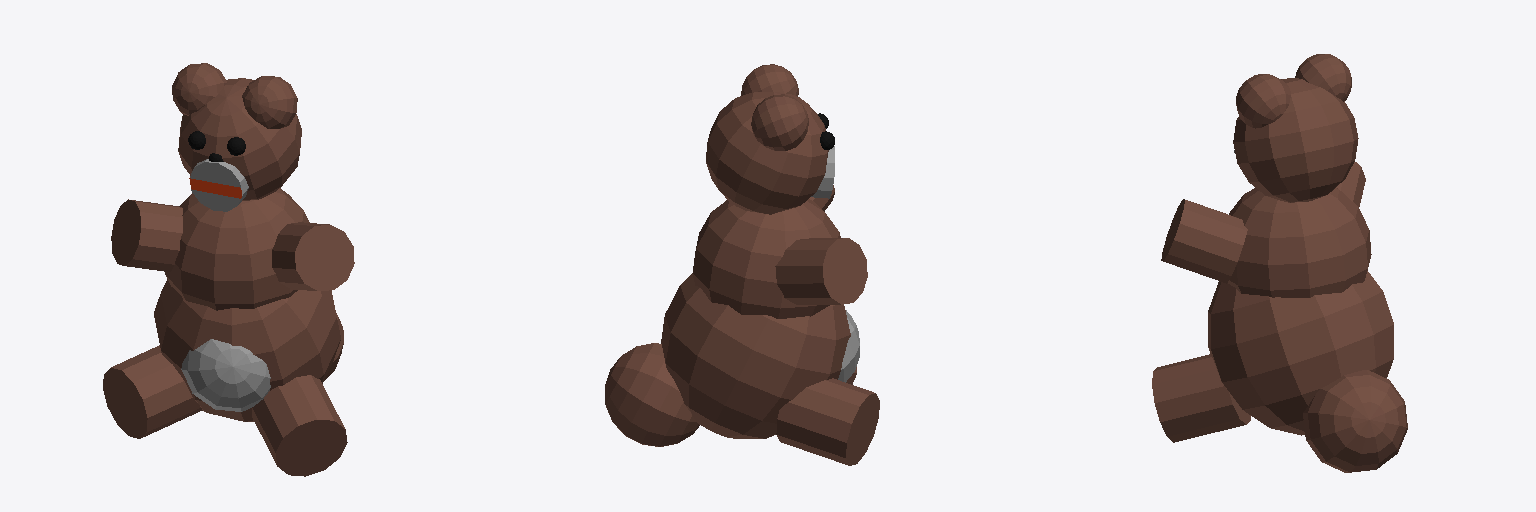
The model's file is model-triangulated.obj.
3 renders of one model, left to right at view 1: azimuth 30°, elevation 25°; view 2: azimuth 150°, elevation 25°; view 3: azimuth 270°, elevation 25°, orthographic.
Parts seen in each view (by area): view 1: group[number redacted], group[number redacted], group[number redacted], group[number redacted], group[number redacted], group[number redacted], group[number redacted], group[number redacted], group[number redacted], group[number redacted], group[number redacted]; view 2: group[number redacted], group[number redacted], group[number redacted], group[number redacted], group[number redacted], group[number redacted], group[number redacted], group[number redacted], group[number redacted], group[number redacted]; view 3: group[number redacted], group[number redacted], group[number redacted], group[number redacted], group[number redacted], group[number redacted], group[number redacted], group[number redacted], group[number redacted].
Part boxes in pixels (bbox=[...]): group[number redacted]: bbox=[154, 279, 340, 421]; group[number redacted]: bbox=[165, 188, 309, 310]; group[number redacted]: bbox=[178, 78, 301, 200]; group[number redacted]: bbox=[252, 375, 347, 476]; group[number redacted]: bbox=[103, 345, 202, 438]; group[number redacted]: bbox=[272, 222, 354, 290]; group[number redacted]: bbox=[181, 339, 270, 411]; group[number redacted]: bbox=[111, 199, 182, 271]; group[number redacted]: bbox=[189, 159, 248, 211]; group[number redacted]: bbox=[242, 76, 297, 128]; group[number redacted]: bbox=[172, 63, 227, 115]; group[number redacted]: bbox=[661, 274, 850, 438]; group[number redacted]: bbox=[692, 199, 840, 318]; group[number redacted]: bbox=[706, 92, 828, 214]; group[number redacted]: bbox=[605, 343, 699, 446]; group[number redacted]: bbox=[776, 378, 879, 465]; group[number redacted]: bbox=[775, 238, 867, 304]; group[number redacted]: bbox=[751, 94, 808, 150]; group[number redacted]: bbox=[741, 64, 798, 96]; group[number redacted]: bbox=[838, 310, 859, 382]; group[number redacted]: bbox=[811, 146, 834, 198]; group[number redacted]: bbox=[1208, 271, 1393, 435]; group[number redacted]: bbox=[1228, 188, 1371, 297]; group[number redacted]: bbox=[1233, 78, 1358, 202]; group[number redacted]: bbox=[1303, 370, 1407, 472]; group[number redacted]: bbox=[1152, 354, 1250, 442]; group[number redacted]: bbox=[1161, 199, 1247, 283]; group[number redacted]: bbox=[1236, 74, 1290, 128]; group[number redacted]: bbox=[1295, 54, 1351, 101]; group[number redacted]: bbox=[1336, 162, 1365, 206].
Bounding box in the file's own units: 0.2819 × 0.4162 × 0.2638.